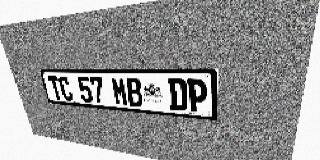5: (77, 77, 94, 103)
7: (89, 77, 106, 104)
B: (125, 77, 144, 107)
C: (57, 76, 74, 101)
D: (168, 78, 187, 111)
M: (111, 77, 129, 106)
P: (187, 79, 207, 113)
T: (47, 76, 63, 100)
